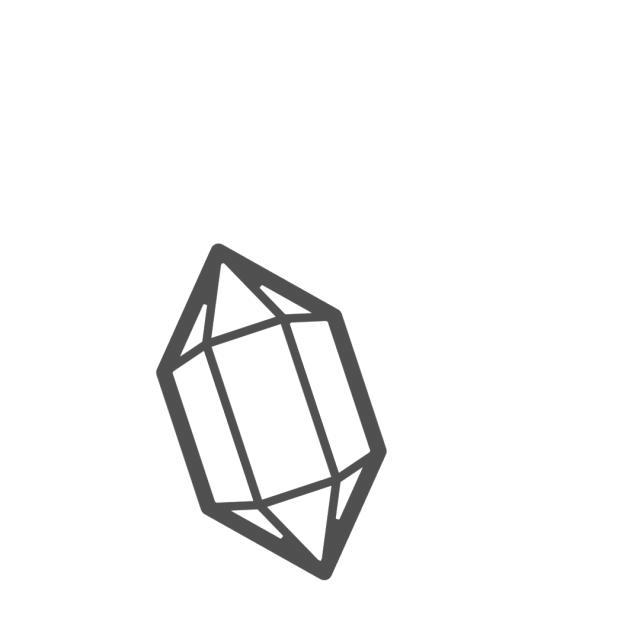crystal: (148, 236, 396, 589)
